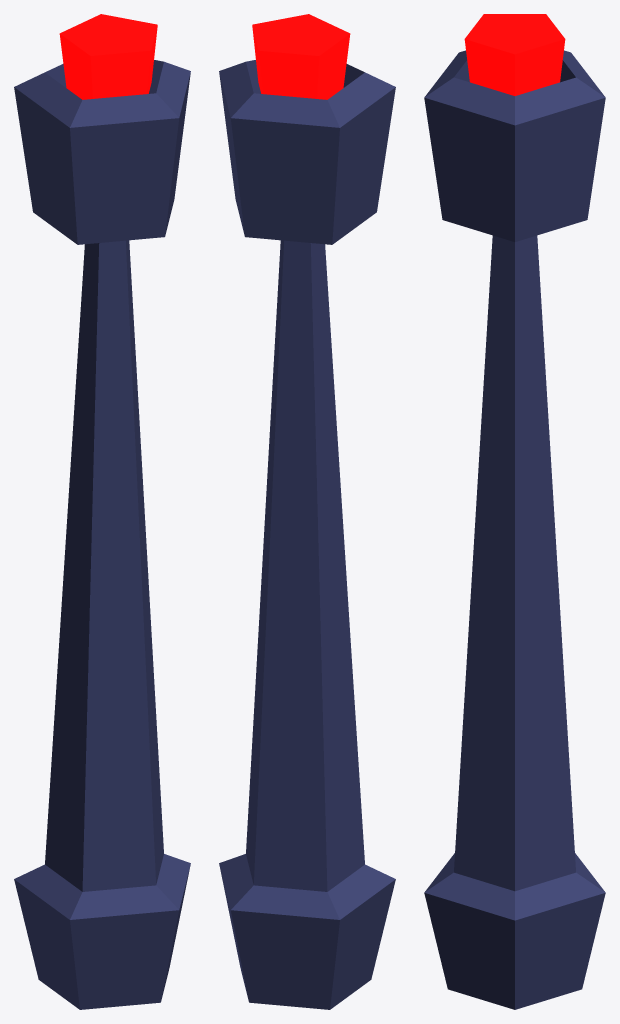
Rendered from SoundEmitter_ButtonPart.FBX.
3 views of the same model, side by side, from view 1: azimuth 30°, elevation 25°; view 2: azimuth 150°, elevation 25°; view 3: azimuth 270°, elevation 25° (orthographic).
Visible parts, largest first — view 1: SoundEmitter_Button; view 2: SoundEmitter_Button; view 3: SoundEmitter_Button.
Boxes of the visible parts, left/top/right/bottom form: SoundEmitter_Button: left=14, top=14, right=190, bottom=1009; SoundEmitter_Button: left=219, top=14, right=395, bottom=1009; SoundEmitter_Button: left=424, top=14, right=605, bottom=1009.
Bounding box in the file's own units: 5.99 × 36.37 × 6.3.
